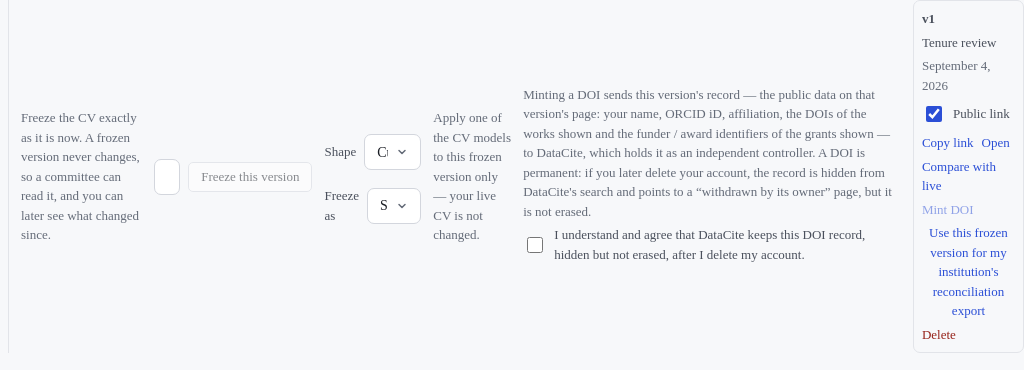
Scenario: VersionsControls › deletes in two steps and reports a failed mint
Expected: the text "Tenure review" is shown, [922, 34, 996, 50]
Click the checkbox labelled "I understand and agree" at (535, 245), box [527, 237, 543, 253]
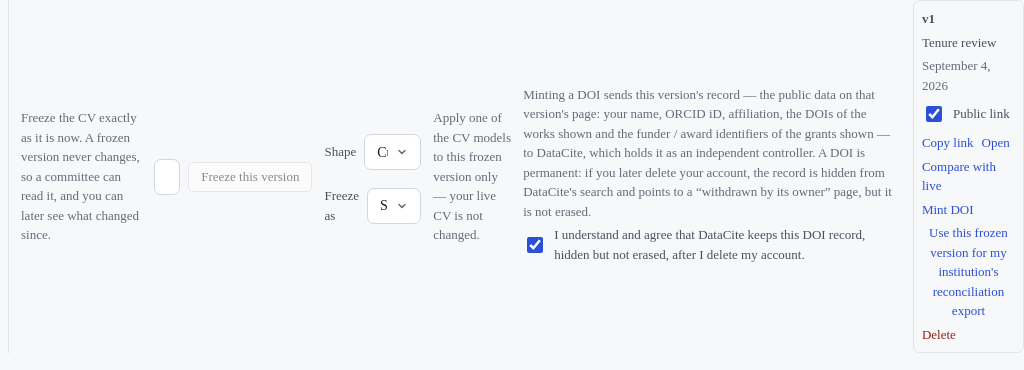
Click the button "Mint DOI" at (948, 209), box [922, 200, 974, 219]
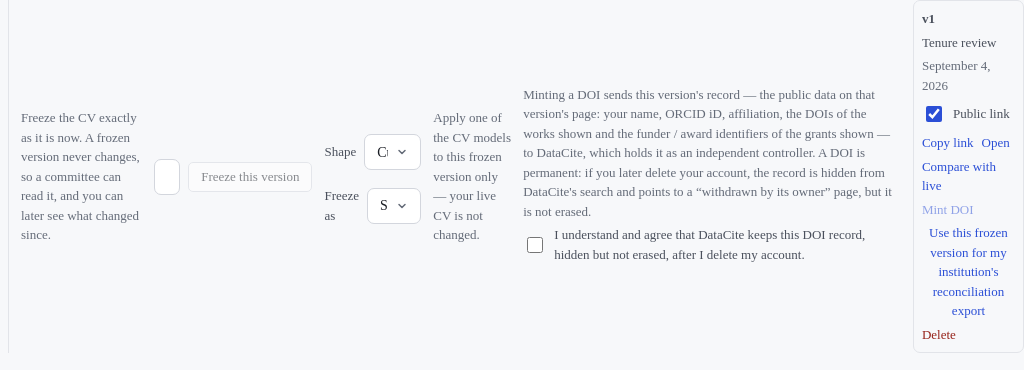
Expected: the checkbox labelled "I understand and agree" is not checked, [527, 237, 543, 253]
Expected: the button "Mint DOI" is disabled, [922, 200, 974, 219]
Click the button "Delete" at (939, 334), box [922, 324, 956, 344]
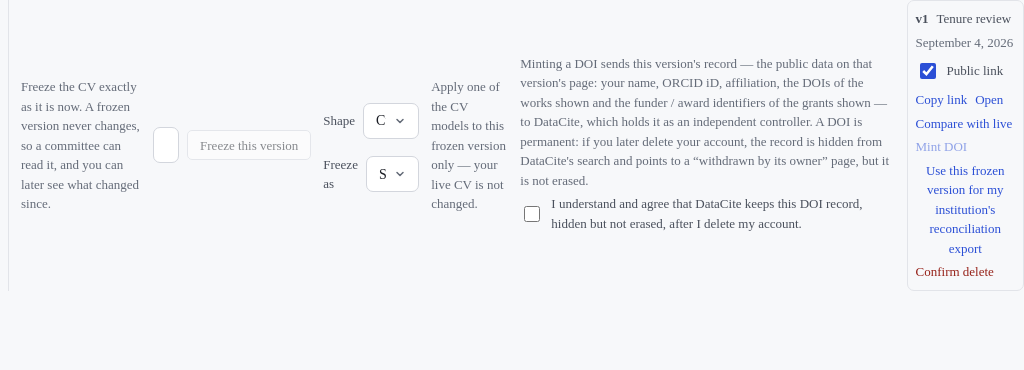
Click the button "Confirm delete" at (955, 272), box [916, 262, 994, 282]
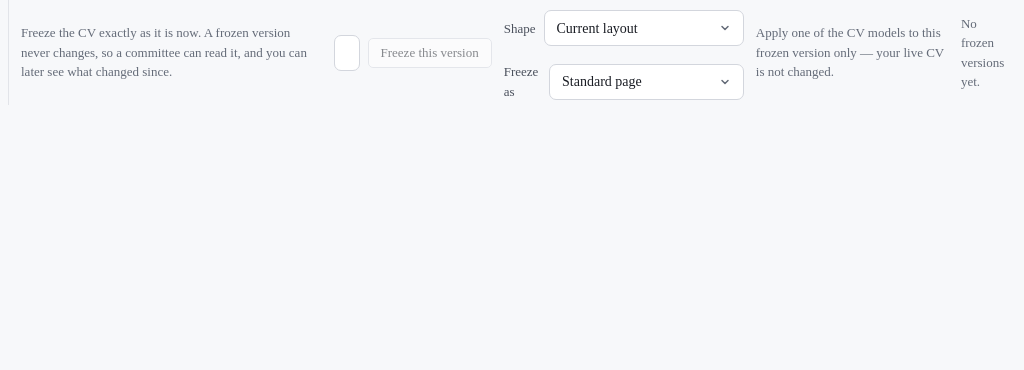
Expected: the list item with test id "version-row" is gone
Expected: the text "No frozen versions yet." is shown, [961, 16, 1004, 89]
